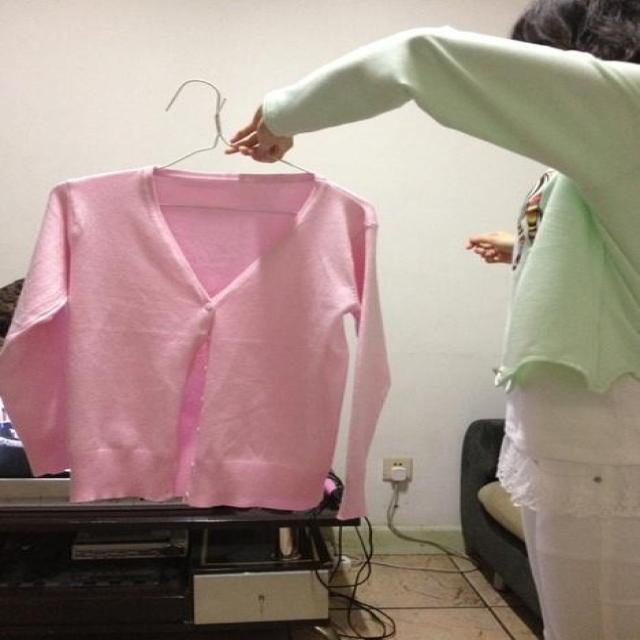long-sleeve-top: (38, 153, 489, 534)
